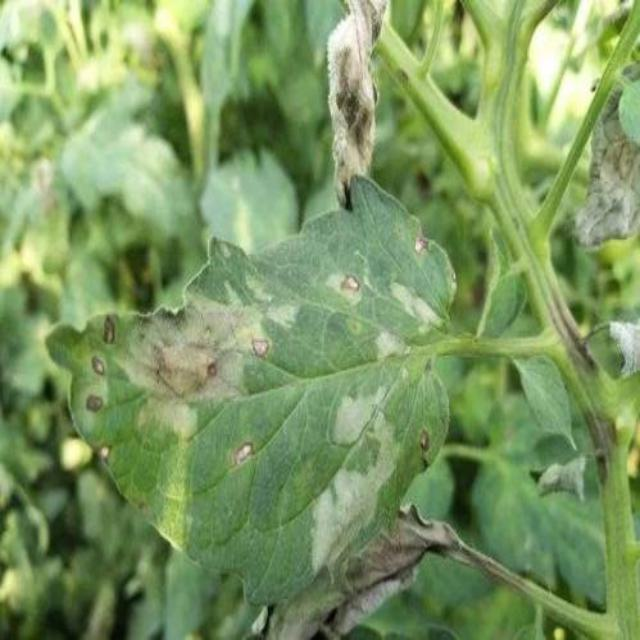Late_blight: (241, 503, 464, 640), (111, 291, 270, 409), (325, 1, 389, 203), (574, 63, 640, 248), (322, 272, 362, 302), (231, 438, 258, 465), (84, 390, 108, 420), (413, 227, 433, 257), (86, 354, 107, 379), (94, 437, 113, 462), (418, 430, 431, 454)
